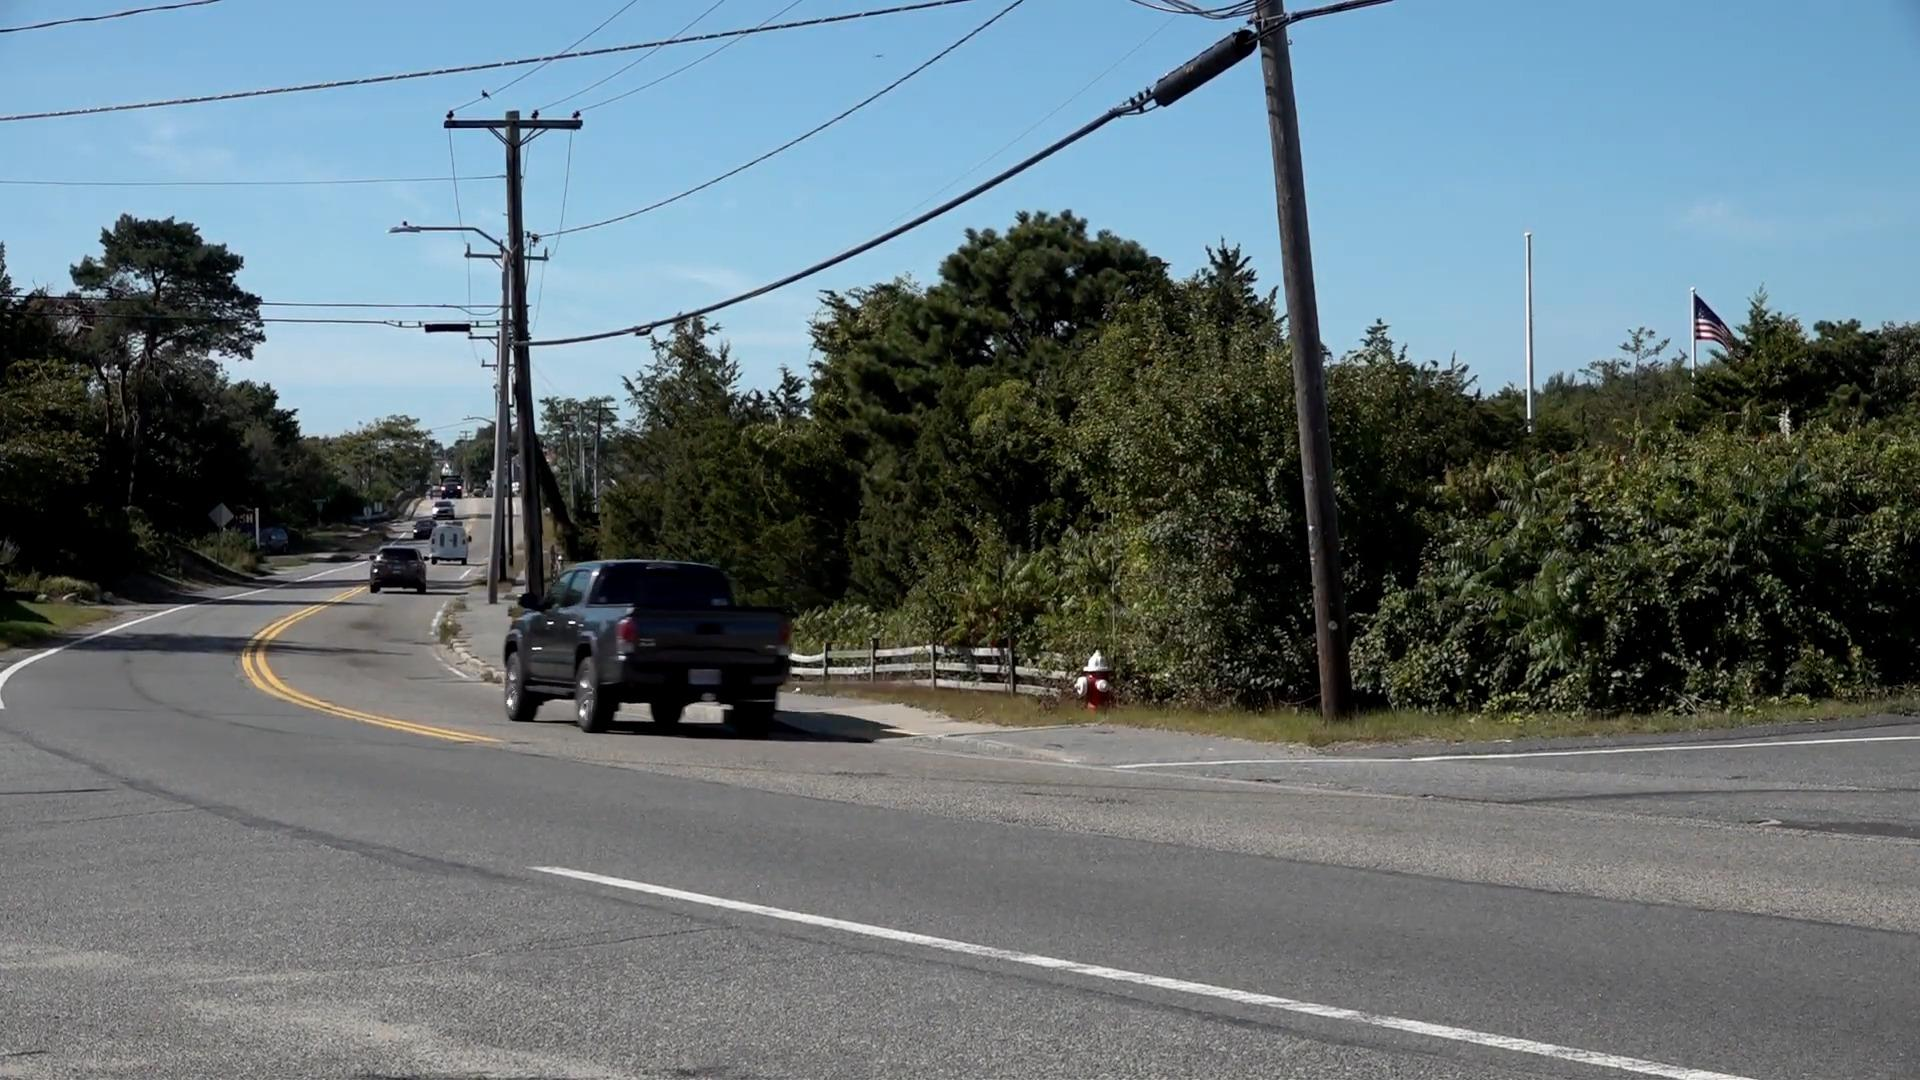pickup: (505, 550, 791, 738)
